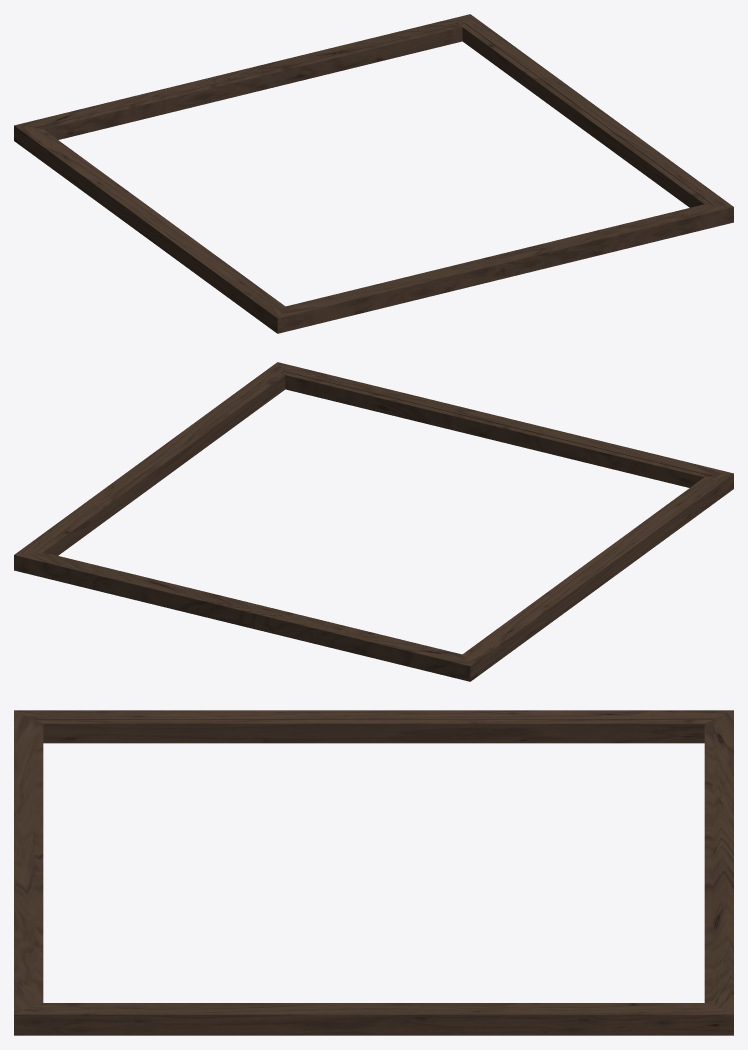
Rendered from Raam100x100-donkerbruin.dae.
3 views of the same model, one above another, from view 1: azimuth 30°, elevation 25°; view 2: azimuth 150°, elevation 25°; view 3: azimuth 270°, elevation 25° (orthographic). The views are drawn at different scales.
Visible parts, largest first — view 1: Raam_geo; view 2: Raam_geo; view 3: Raam_geo.
Boxes of the visible parts, x1,y1,x2,y2 form: Raam_geo: (14,14,733,333); Raam_geo: (14,362,733,681); Raam_geo: (14,710,733,1035).
Size of the model in its own units: 100 by 3.25 by 100.
1 material, 1 textured.
